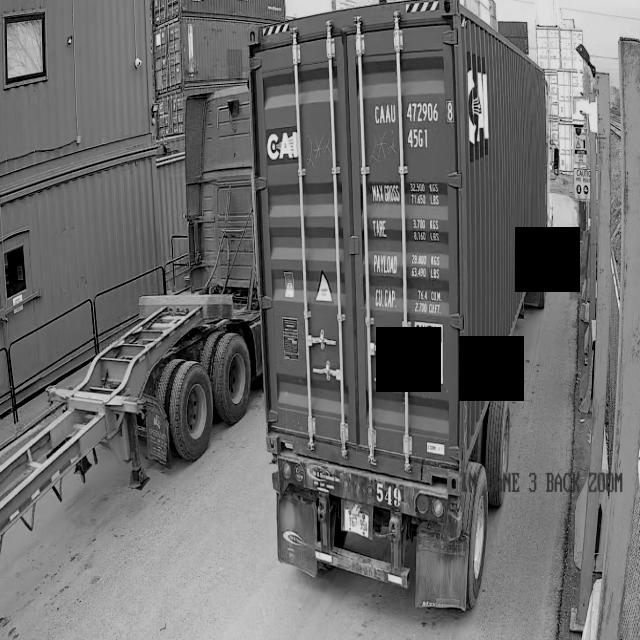container_company_logo: (265, 121, 302, 169)
container_number: (372, 101, 458, 161)
license_plate: (334, 505, 375, 549)
other_container_info: (366, 175, 448, 329)
truck_with_container: (246, 0, 551, 610)
truck_without_container: (0, 91, 262, 551)
